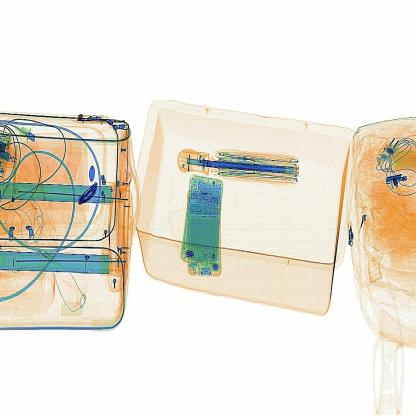knife: (71, 177, 109, 214)
